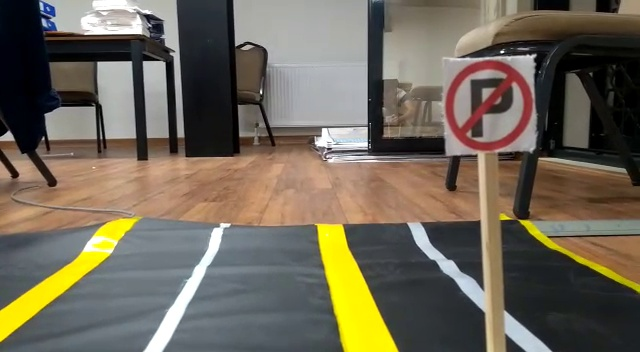park_yapilmaz: (441, 58, 535, 151)
